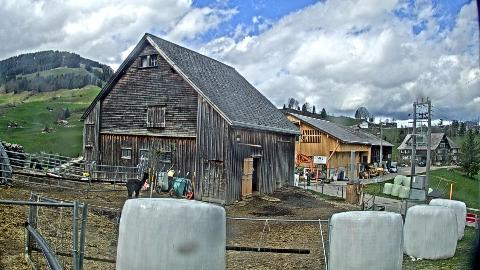car: (388, 165, 398, 173), (418, 161, 426, 167)
sheep: (125, 172, 149, 199), (252, 166, 255, 174)
